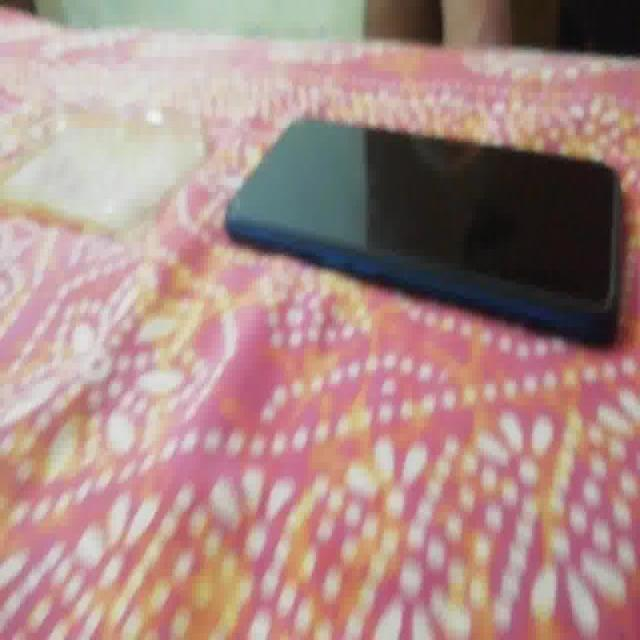Phone: (221, 113, 625, 343)
